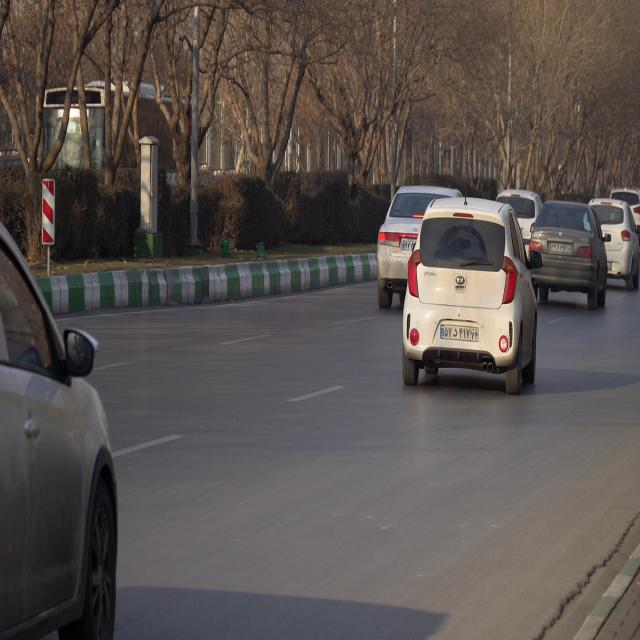car: (399, 200, 537, 390), (378, 189, 458, 314), (529, 202, 609, 297), (592, 203, 638, 285)
